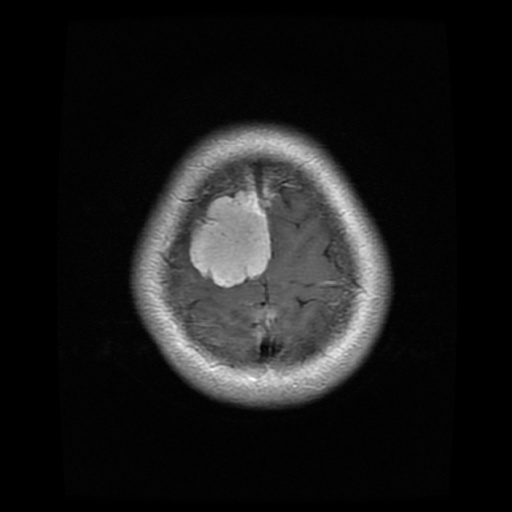meningioma: (189, 189, 271, 288)
